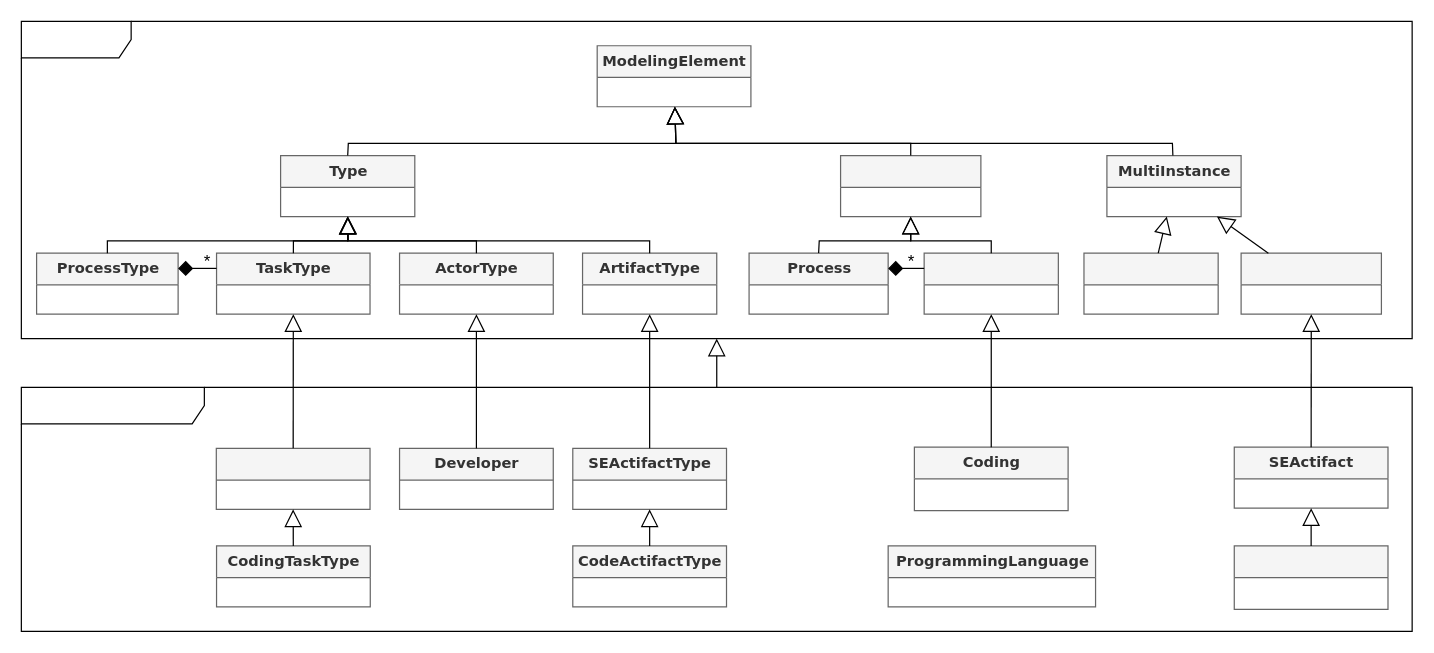
This 1434x653 diagram has some shape labels left out. The box of each missing label's shape, as (x1, y1, x2, y2) in pixels:
Acme Metamodel: (20, 386, 1412, 631)
Actor: (1083, 252, 1218, 314)
Artifact: (1240, 252, 1381, 314)
Code: (1233, 545, 1388, 609)
Instance: (839, 154, 981, 217)
Metamodel: (20, 20, 1412, 339)
SETaskType: (215, 447, 370, 509)
Task: (923, 252, 1058, 314)
